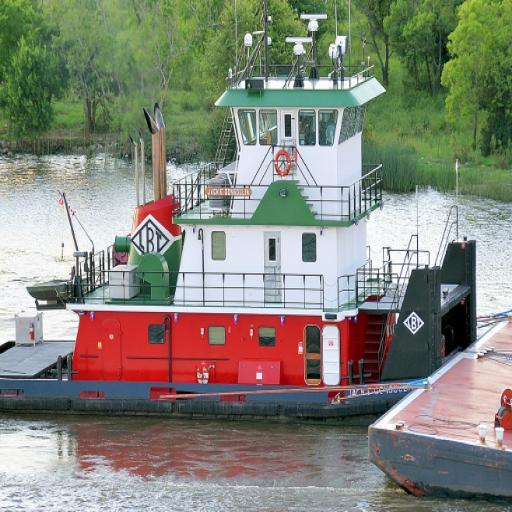tugboat: (1, 5, 483, 427)
